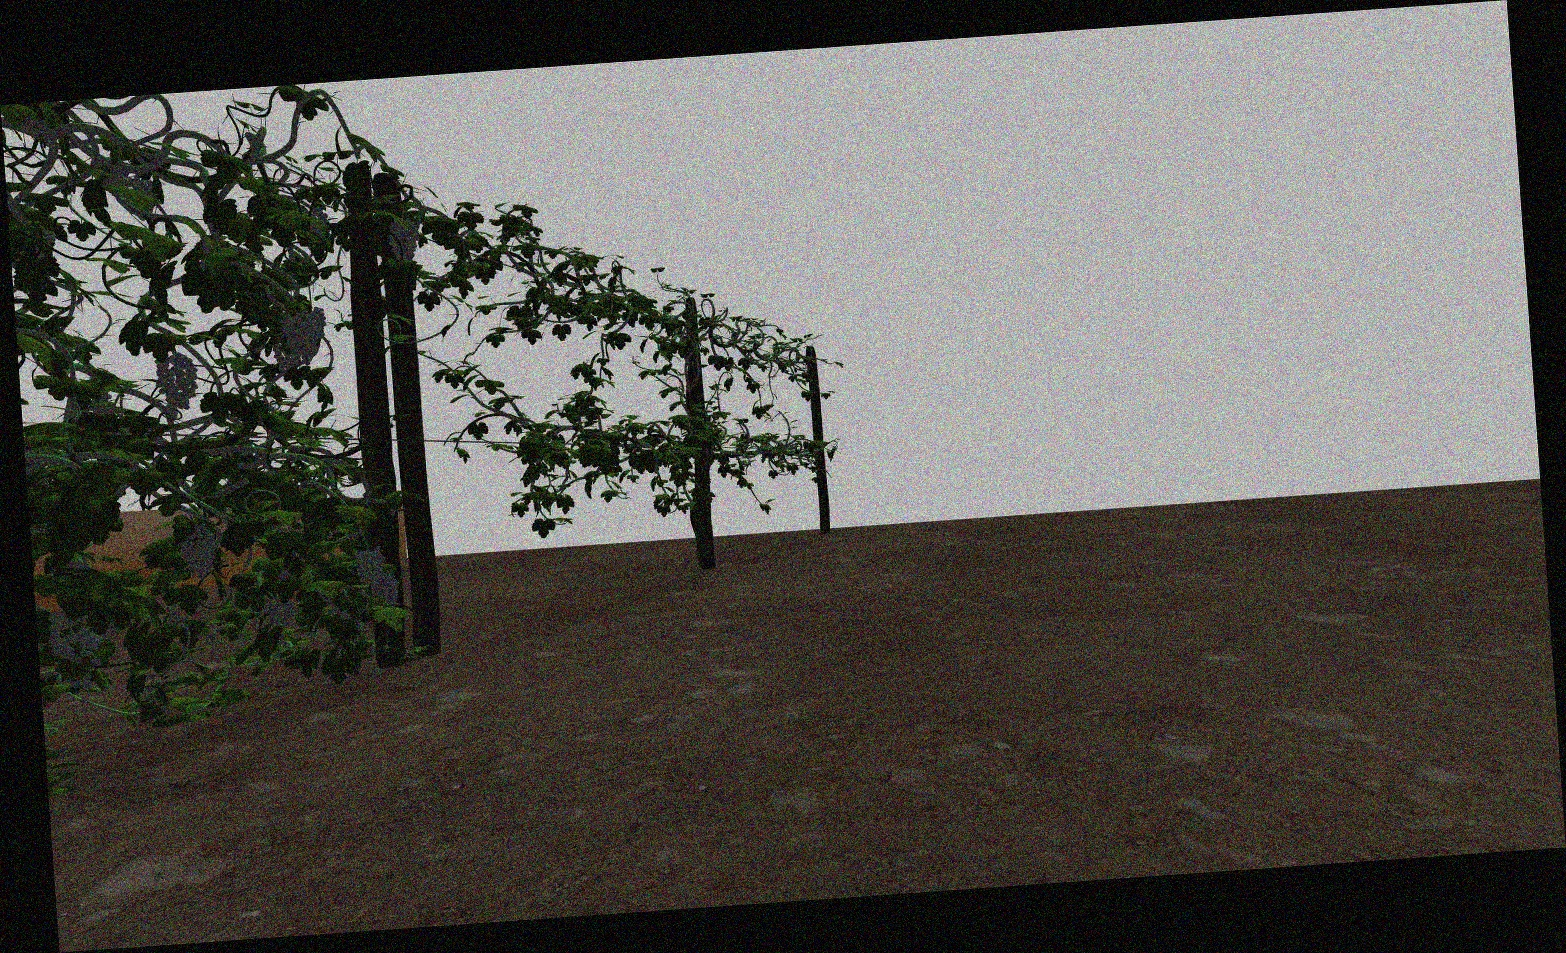grape: (51, 628, 103, 692), (281, 305, 328, 367), (154, 351, 199, 411), (179, 523, 218, 581), (388, 219, 419, 263), (356, 546, 388, 587), (375, 575, 400, 607), (267, 600, 294, 629)
